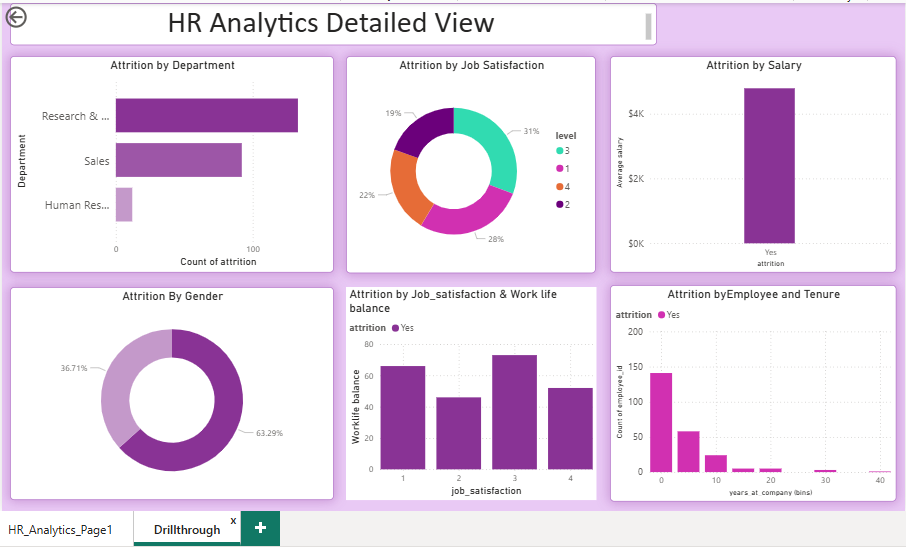

Layout of this report page (visuals, bound fields, positions):
{"tool":"powerbi","page":{"name":"Drillthrough","canvas":[1280,720],"ordinal":1},"visuals":[{"type":"clusteredBarChart","title":"Attrition by Department","fields":{"Y":["CountNonNull(hr_analytics hr_data.attrition)"],"Category":["hr_analytics hr_data.department"]},"box":[11.4,75.8,459.1,307.5],"z":5000},{"type":"donutChart","title":"Attrition By Gender","fields":{"Y":["Measure.AttritionCount"],"Category":["hr_analytics hr_data.gender"]},"box":[11.4,401.9,459.1,301.8],"z":8000},{"type":"donutChart","title":"Attrition by Job Satisfaction","fields":{"Y":["Measure.AttritionCount"],"Category":["hr_analytics hr_data.job_satisfaction"]},"box":[487.6,75.1,354.3,307.6],"z":9000},{"type":"columnChart","title":"Attrition by Salary","fields":{"Y":["Avg(hr_analytics hr_data.monthly_income)"],"Category":["hr_analytics hr_data.attrition"]},"box":[862.4,75.8,406.2,307.5],"z":10000},{"type":"textbox","box":[11.3,0,917,59.5],"z":14000},{"type":"columnChart","title":"Attrition byEmployee and Tenure","fields":{"Category":["hr_analytics hr_data.years_at_company (bins)"],"Y":["CountNonNull(hr_analytics hr_data.employee_id)"],"Series":["hr_analytics hr_data.attrition"]},"box":[862.4,399,406.2,307.5],"z":14001},{"type":"actionButton","box":[0,0,100,40],"z":14002},{"type":"columnChart","title":"Attrition by Job_satisfaction & Work life balance","fields":{"Category":["hr_analytics hr_data.job_satisfaction"],"Series":["hr_analytics hr_data.attrition"],"Y":["CountNonNull(hr_analytics hr_data.work_life_balance)"]},"box":[487.7,401.9,354.7,301.8],"z":14003}]}

Visuals, with their boxes in screenshot pixels (x1, y1, x2, y2):
"Attrition by Department" clusteredBarChart: box=[13, 58, 333, 272]
"Attrition By Gender" donutChart: box=[13, 285, 333, 496]
"Attrition by Job Satisfaction" donutChart: box=[345, 57, 592, 272]
"Attrition by Salary" columnChart: box=[607, 58, 890, 272]
textbox: box=[13, 5, 653, 46]
"Attrition byEmployee and Tenure" columnChart: box=[607, 283, 890, 498]
actionButton: box=[5, 5, 75, 33]
"Attrition by Job_satisfaction & Work life balance" columnChart: box=[345, 285, 593, 496]
